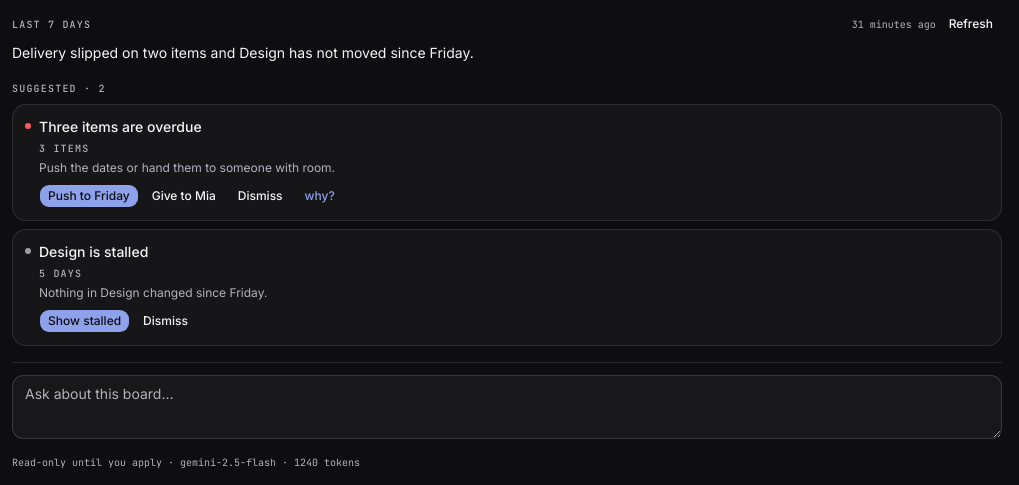
Scenario: IntelligenceTab — while it is reading › keeps the brief on screen while a refresh runs
Click the button "Refresh": click(971, 24) [940,12,1002,36]
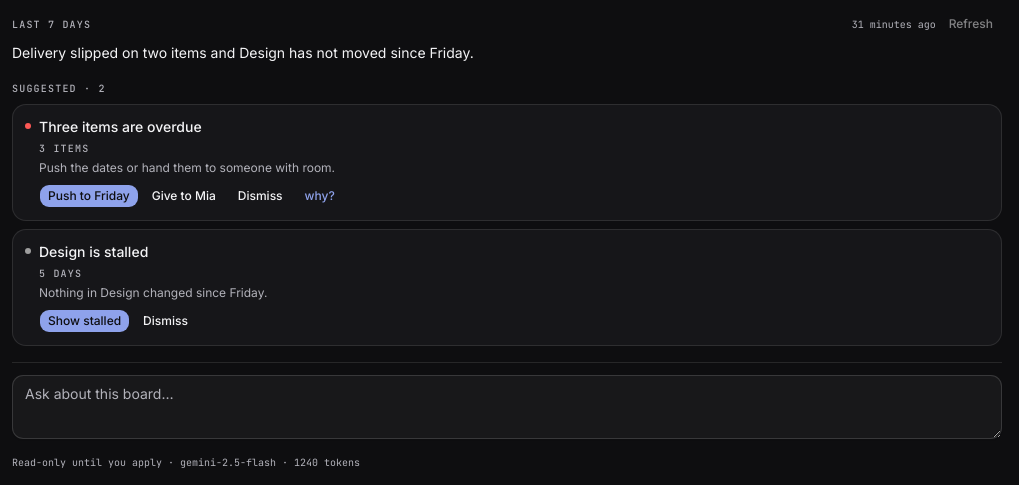
Expected: the text "Delivery slipped on two items and Design has not moved since Friday." is shown, [12,44,474,61]
Now the button "Refresh" is disabled, box [940,12,1002,36]
